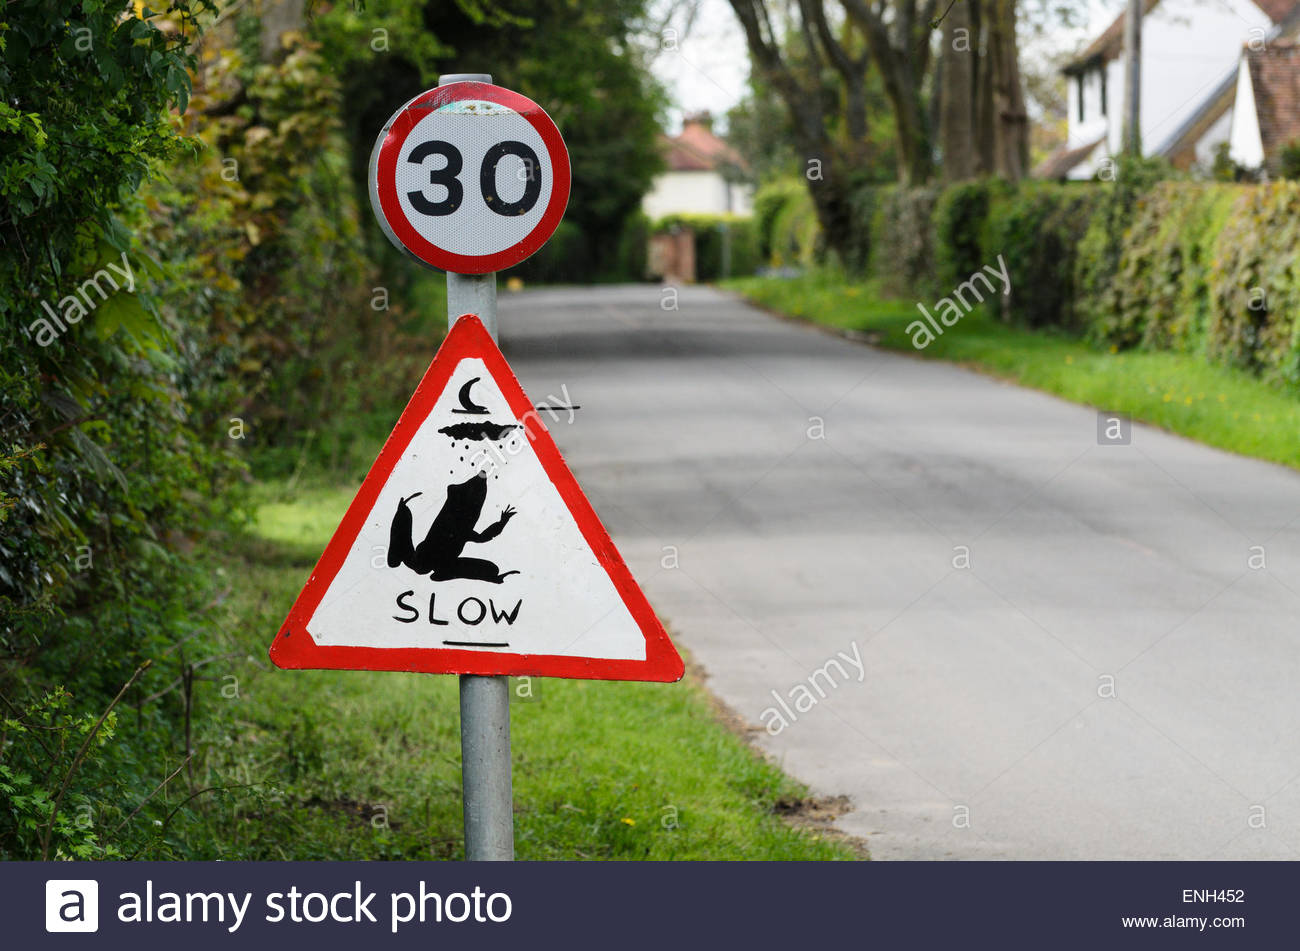Speed_limit_30km: (374, 81, 572, 278)
